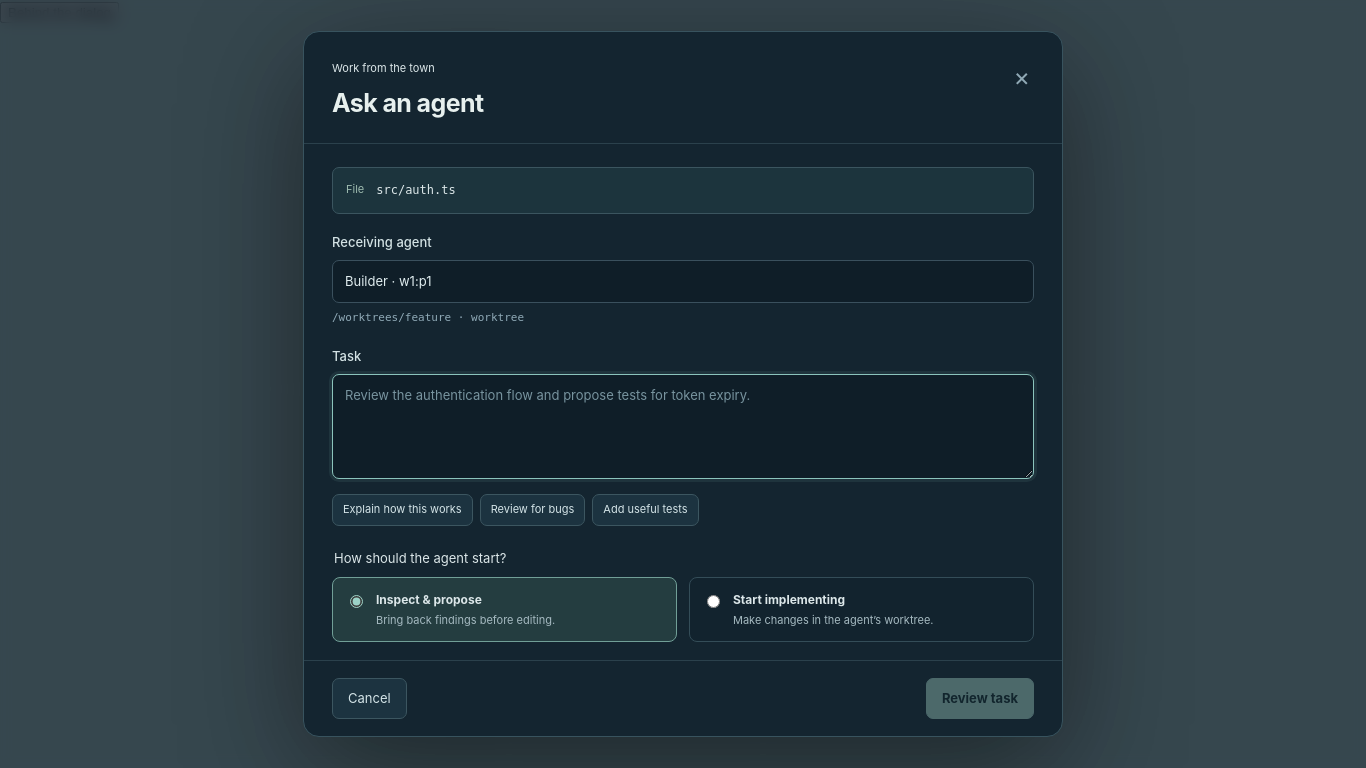
Test: preserves failed tasks and traps focus away from underlying terminals
Replace the text in the text box labelled "Task" with "Review token expiry" at point(683, 426), box [332,374,1034,479]
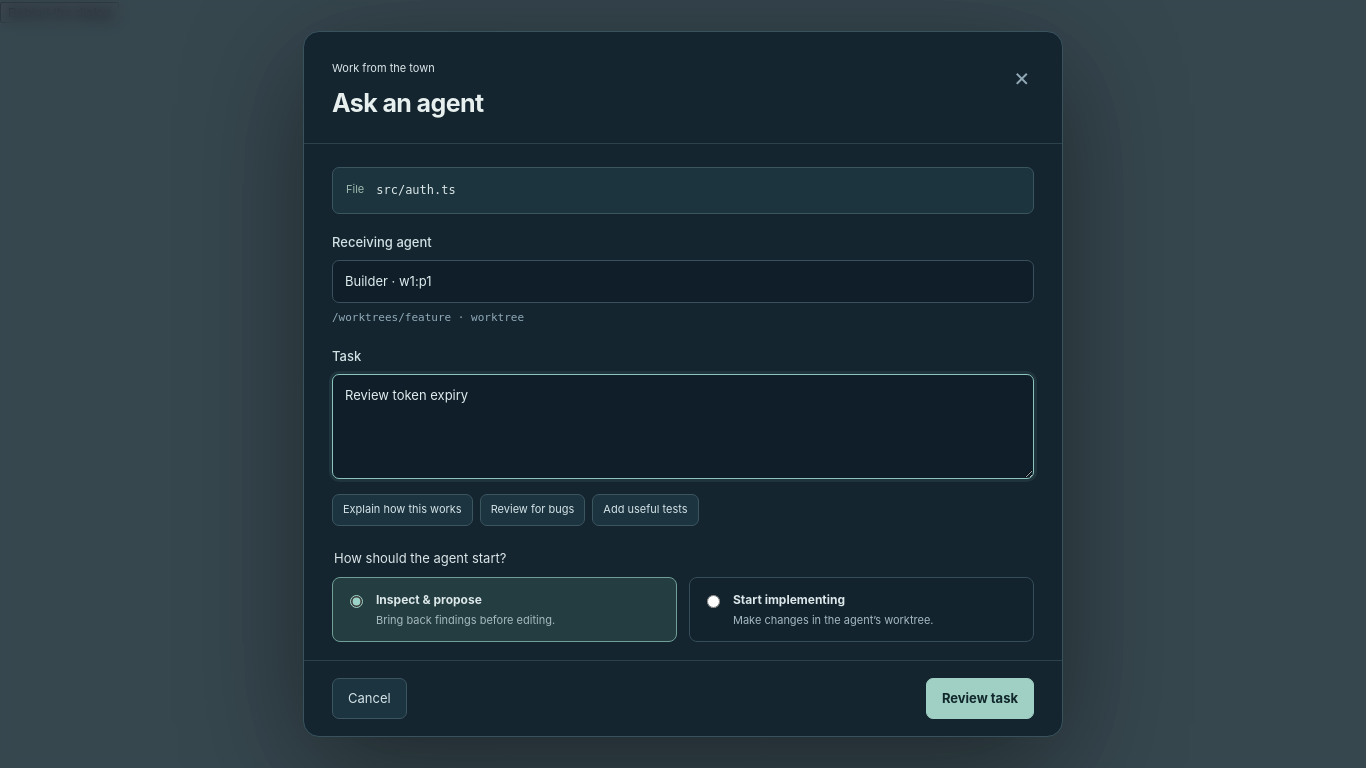
Click the button "Review task".
click(980, 699)  # box [926,678,1034,719]
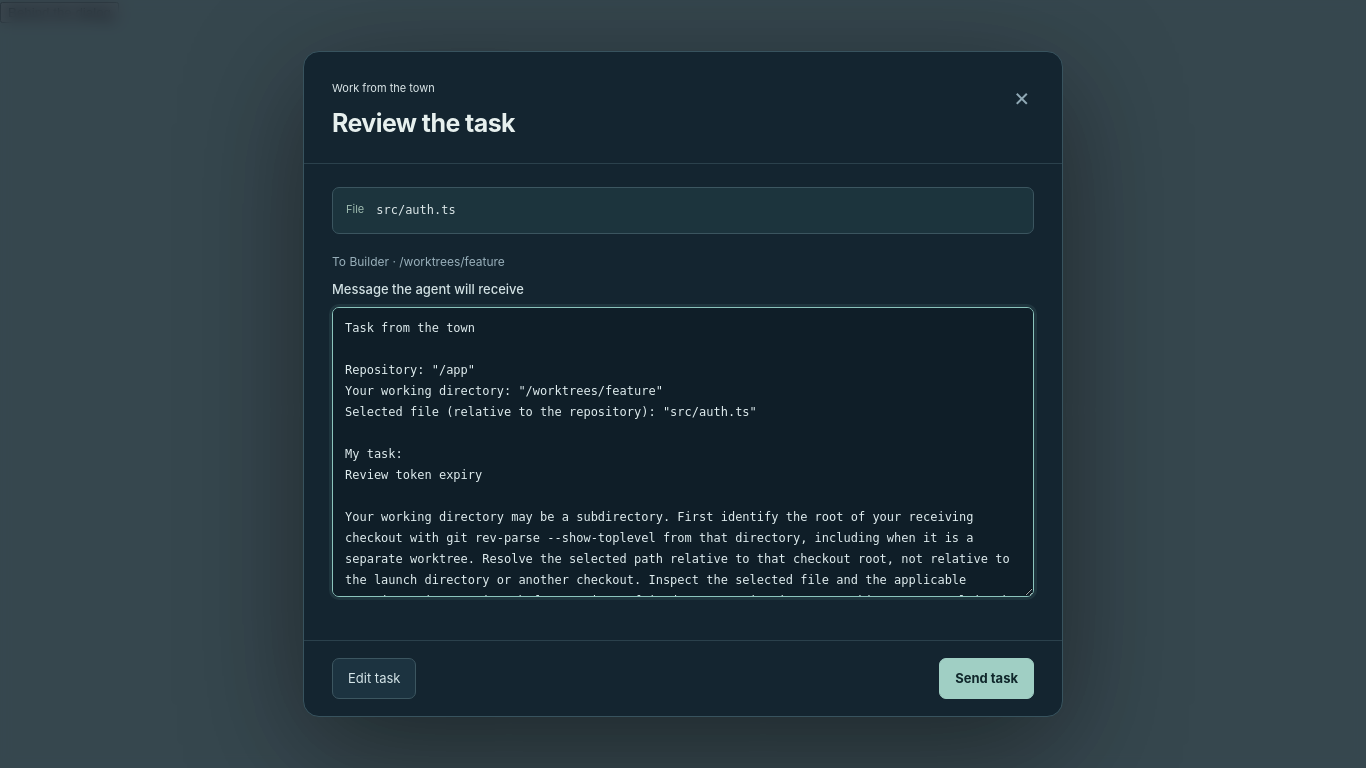
Click the button "Send task".
click(987, 678)  # box [939,658,1034,699]
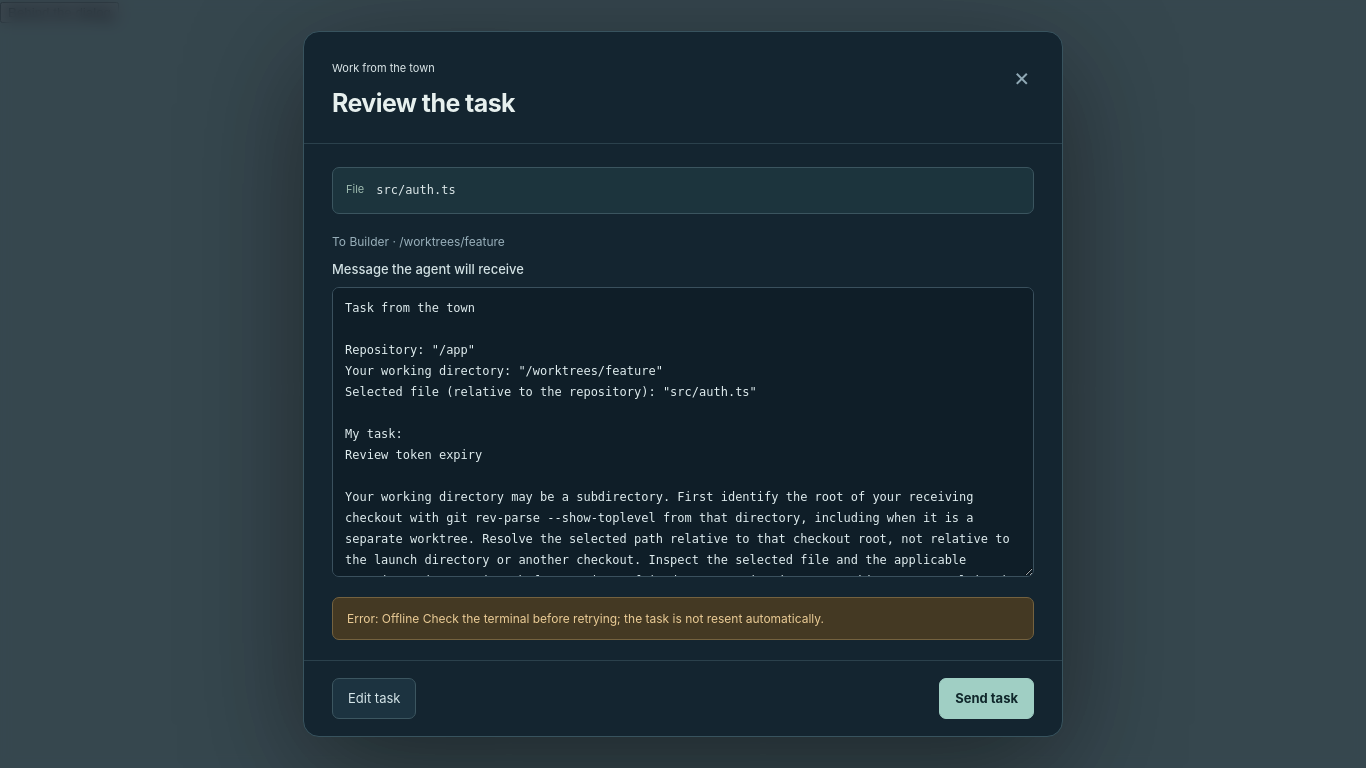
Now the message is shown, box [332,597,1034,640]
